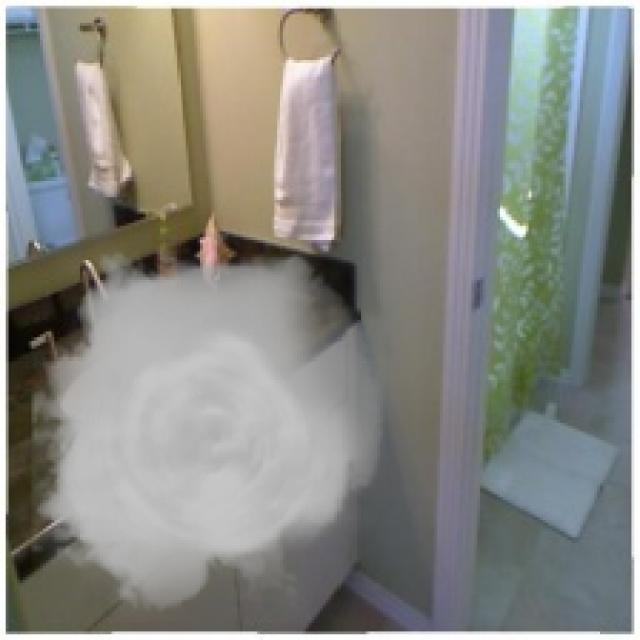Smoke: (31, 234, 386, 623)
